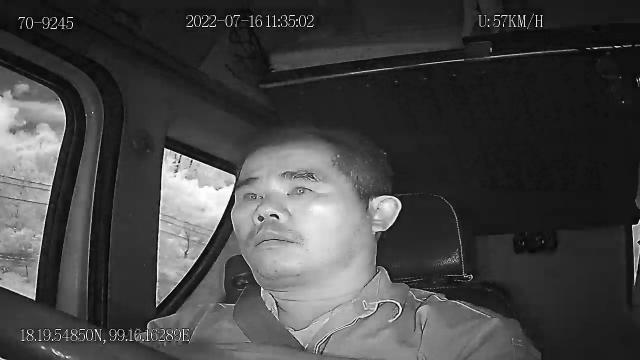SafeDriving: (279, 171, 324, 201), (234, 181, 268, 206)
Seatbelt: (234, 286, 306, 350)
